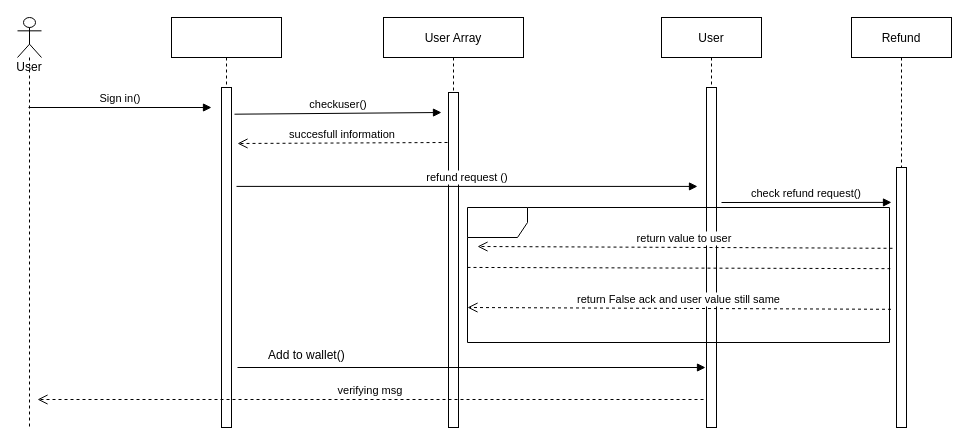
This 969x445 diagram has some shape labels left out. The shapes that lost their labels are listed below. From the top down, each one's box as (x1, y1, x2, y2) in pixels, then its label:
(170, 16, 282, 428): User Form
(466, 206, 890, 342): Alt
